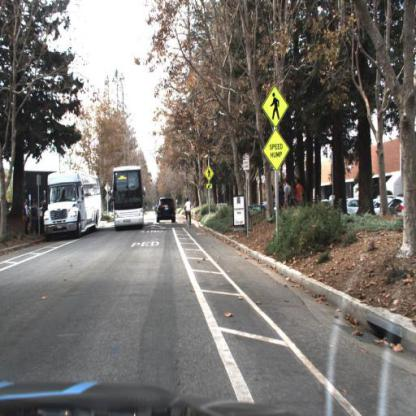biker: (183, 194, 195, 231)
car: (155, 195, 179, 225), (386, 192, 411, 219), (344, 198, 362, 216)
pedestrian: (329, 170, 338, 208), (32, 200, 40, 239), (296, 178, 306, 209), (22, 200, 31, 234), (278, 184, 287, 215), (291, 180, 299, 207), (38, 200, 44, 235)
truck: (42, 167, 104, 241), (112, 164, 147, 234)
